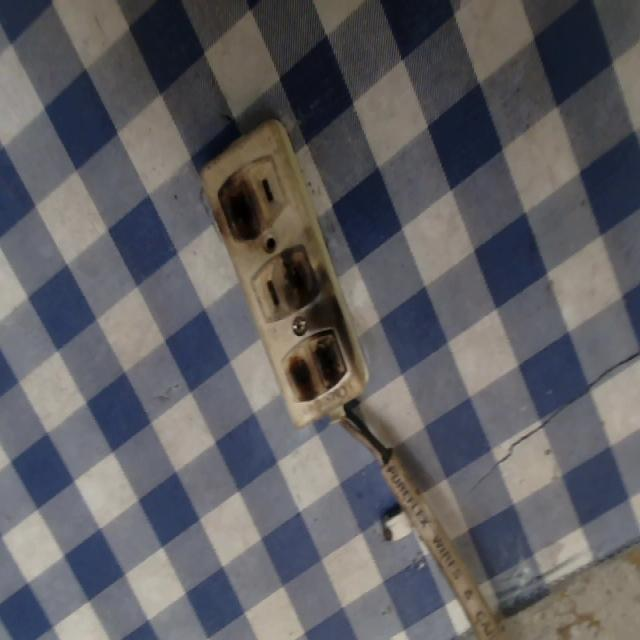-: (281, 322, 351, 410), (211, 176, 264, 247), (271, 235, 323, 304)
